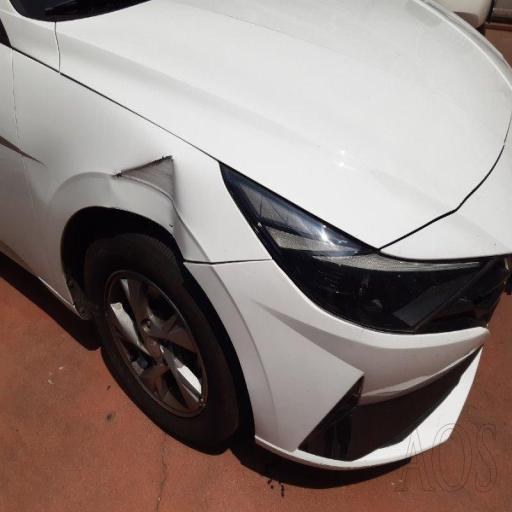dent: (82, 106, 218, 276)
